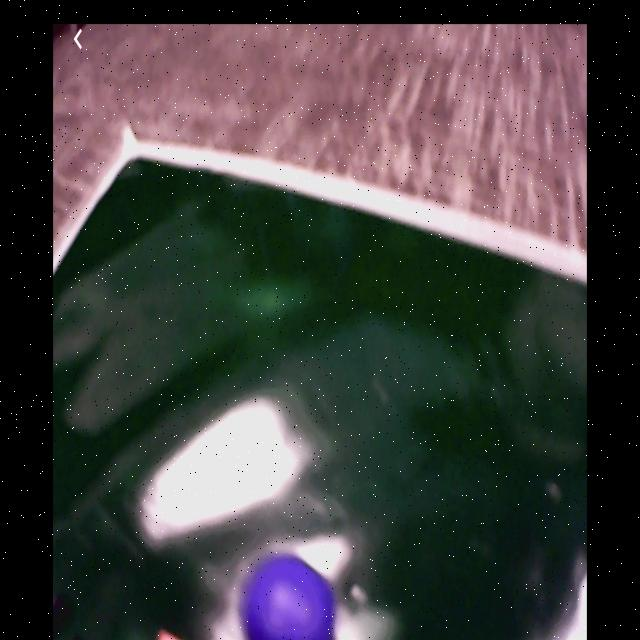ball: (245, 555, 334, 637)
